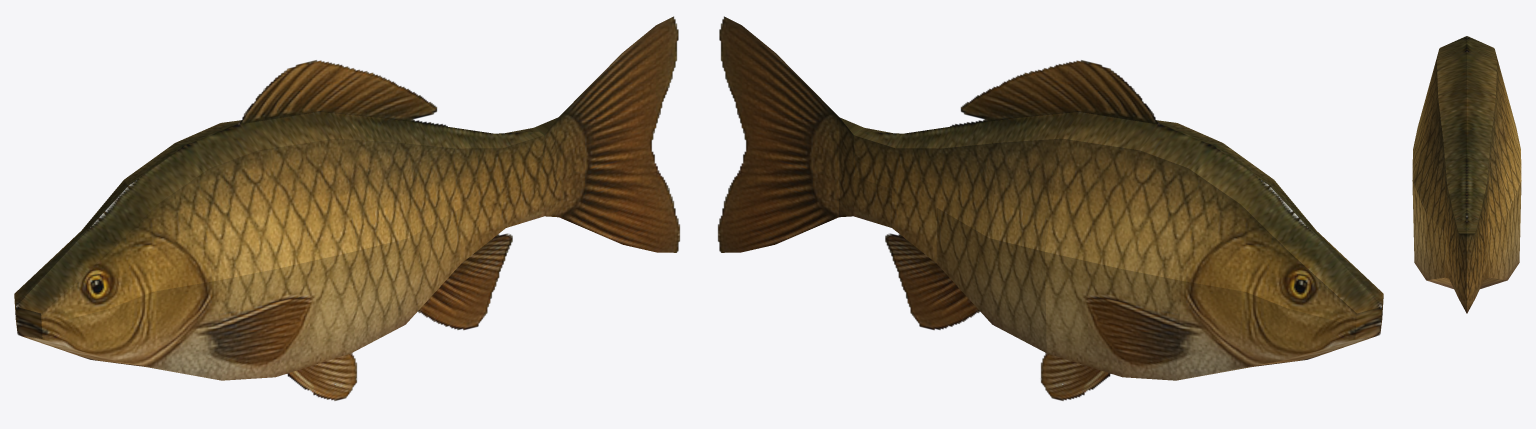
Rendered from Carp.glb.
3 views of the same model, side by side, from view 1: azimuth 30°, elevation 25°; view 2: azimuth 150°, elevation 25°; view 3: azimuth 270°, elevation 25° (orthographic). The views are drawn at different scales.
Parts seen in each view (by area): view 1: Carp; view 2: Carp; view 3: Carp.
Boxes of the visible parts, bbox=[...] form: Carp: bbox=[14, 16, 679, 400]; Carp: bbox=[718, 16, 1383, 400]; Carp: bbox=[1412, 36, 1521, 313].
Bounding box in the file's own units: 1.64 × 0.8616 × 0.2879.
Materials: 1 (1 with a texture image).
